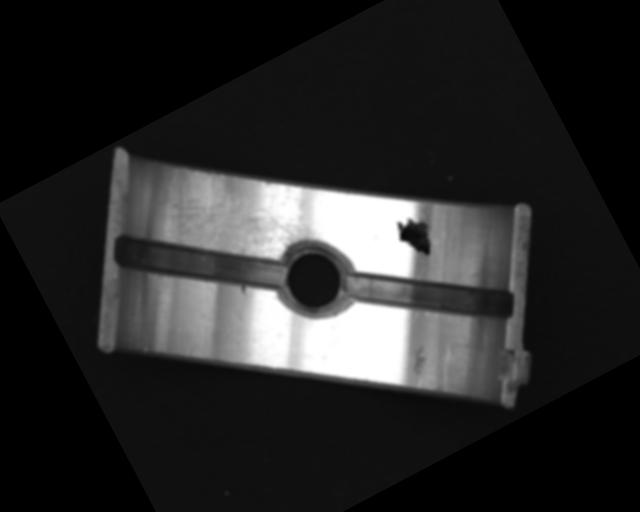blot: (391, 209, 442, 265)
bruise: (401, 340, 437, 377), (238, 282, 251, 297)
gap: (108, 176, 292, 348), (345, 215, 520, 375)
hole: (266, 230, 364, 327)
scratch: (148, 135, 324, 306)
